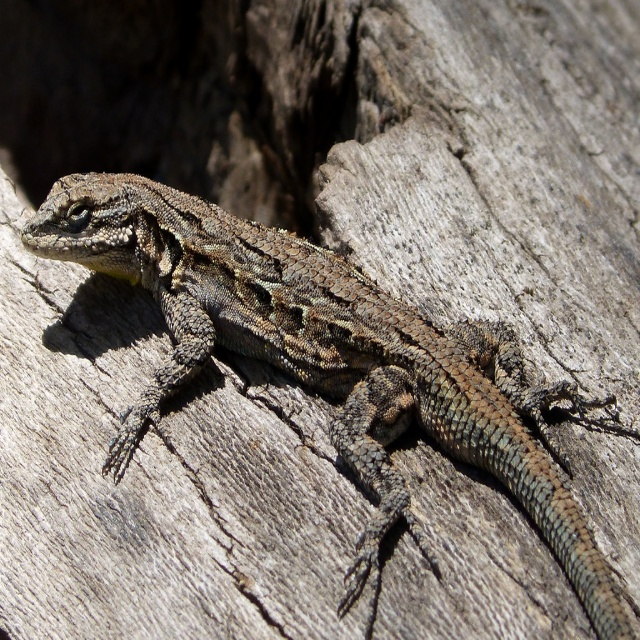Lizard: (20, 170, 635, 635)
